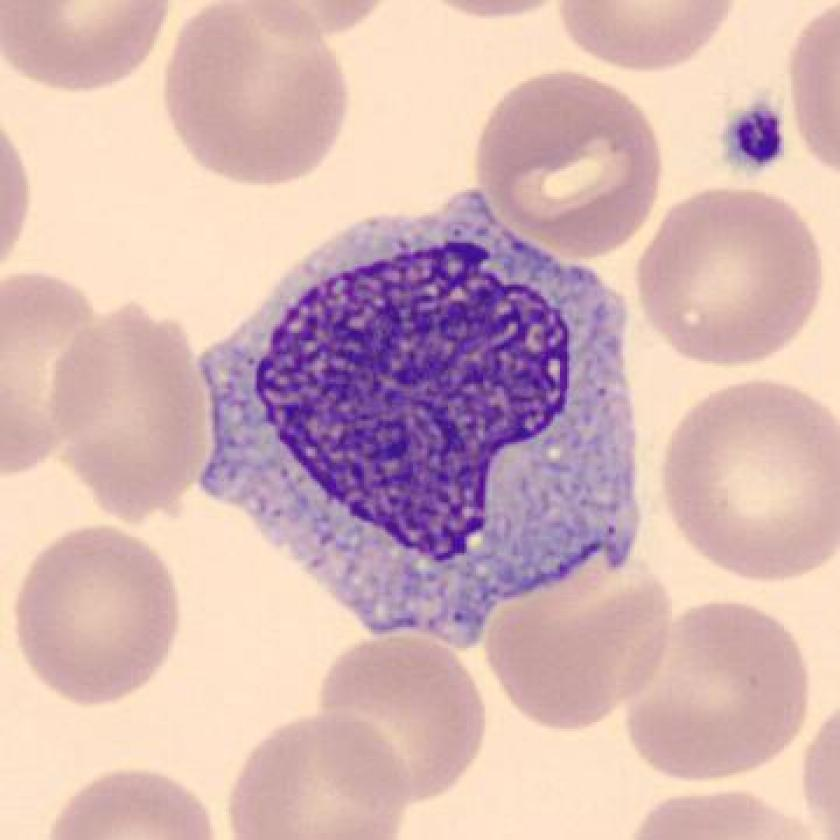monocyte: (178, 170, 671, 667)
